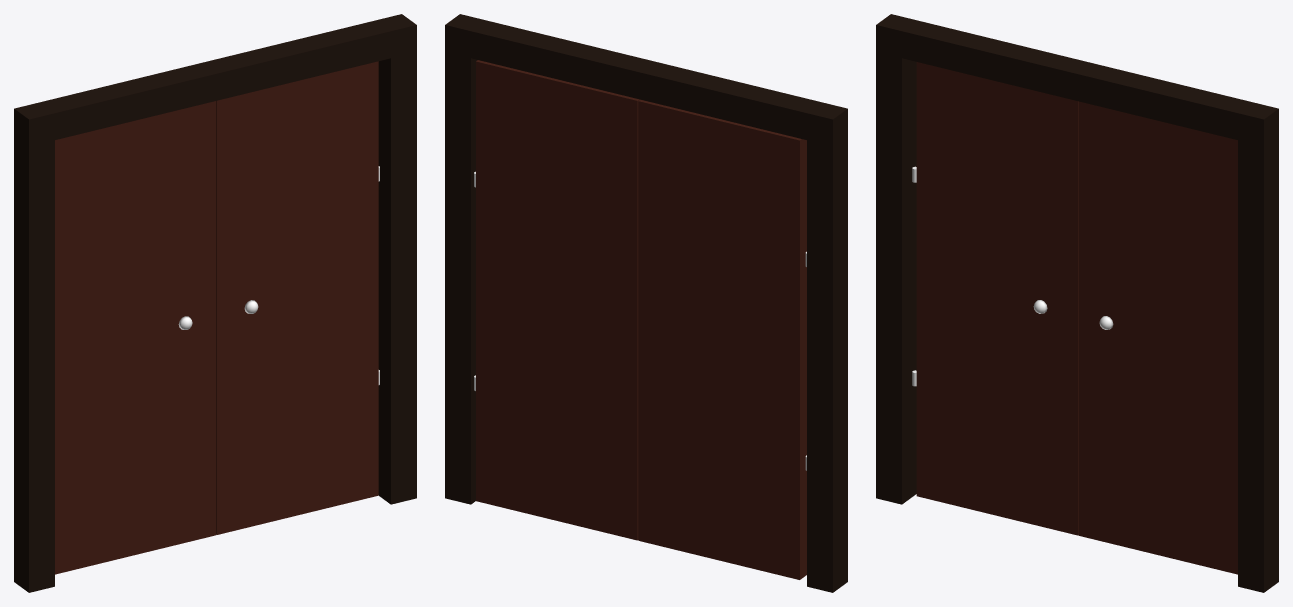
The model's file is Openable Double Door.FBX.
The picture shows the model from 3 angles, left to right: view 1: azimuth 30°, elevation 25°; view 2: azimuth 150°, elevation 25°; view 3: azimuth 330°, elevation 25°; orthographic projection.
Parts seen in each view (by area): view 1: Door 001, Door 002, Double Door Frame; view 2: Door 002, Door 001, Double Door Frame; view 3: Door 002, Door 001, Double Door Frame.
Boxes of the visible parts, box(x1,y1,x2,y2) form: Door 001: box(216, 61, 378, 534); Door 002: box(55, 101, 216, 574); Double Door Frame: box(14, 14, 416, 592); Door 002: box(638, 99, 806, 579); Door 001: box(476, 60, 639, 540); Double Door Frame: box(445, 14, 847, 592); Door 002: box(916, 62, 1078, 535); Door 001: box(1079, 101, 1237, 574); Double Door Frame: box(876, 14, 1278, 592).
Size of the model in its own units: 3 by 3.5 by 0.2.
